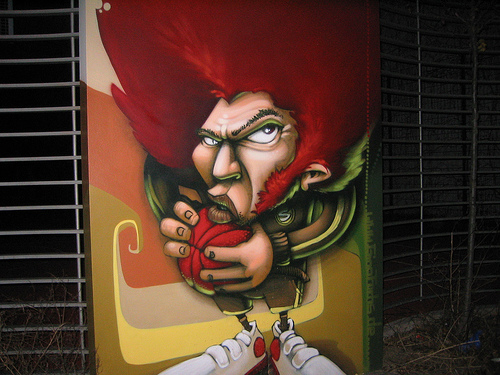graffiti: (79, 1, 383, 375)
